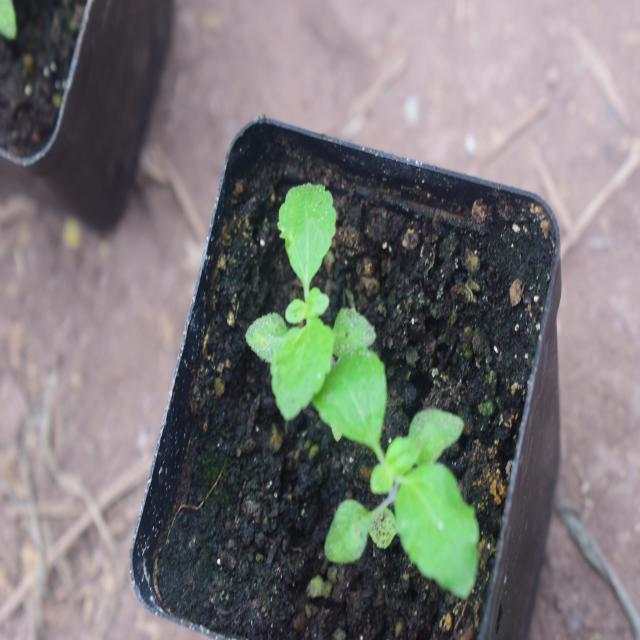billygoat_weed: (314, 334, 492, 584), (255, 174, 358, 430)
